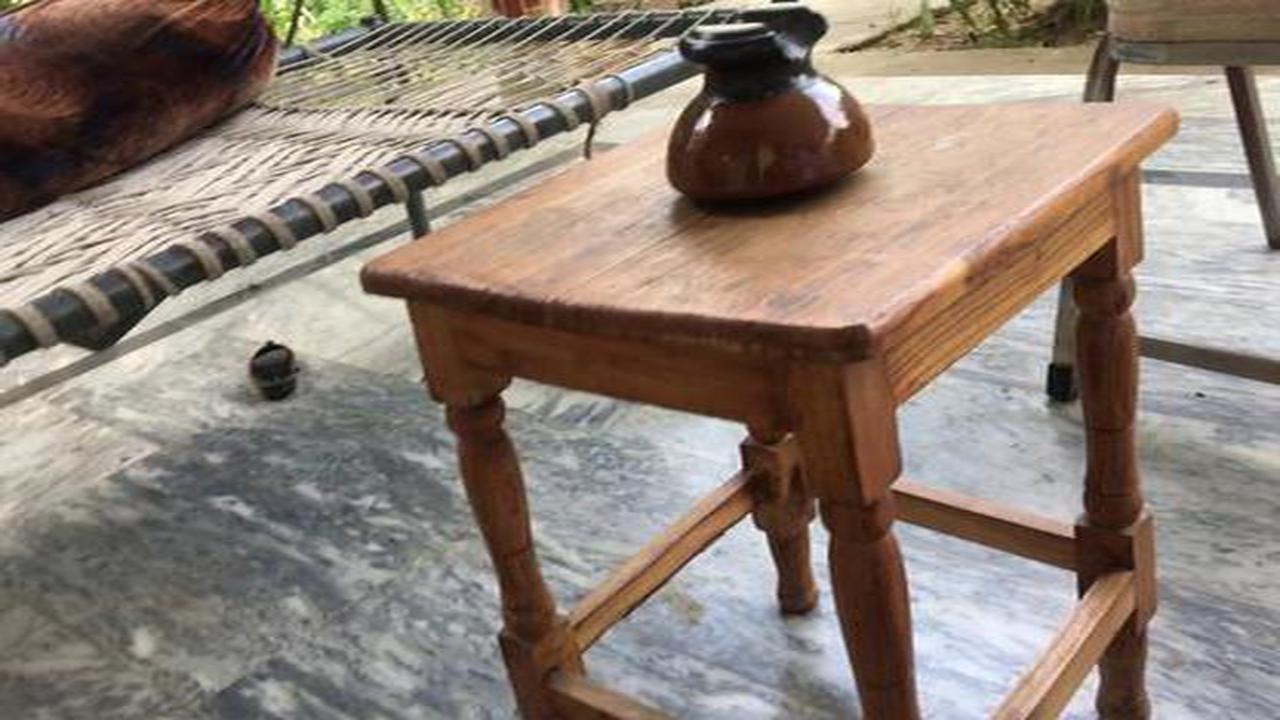insulator_pin: (650, 2, 905, 222)
